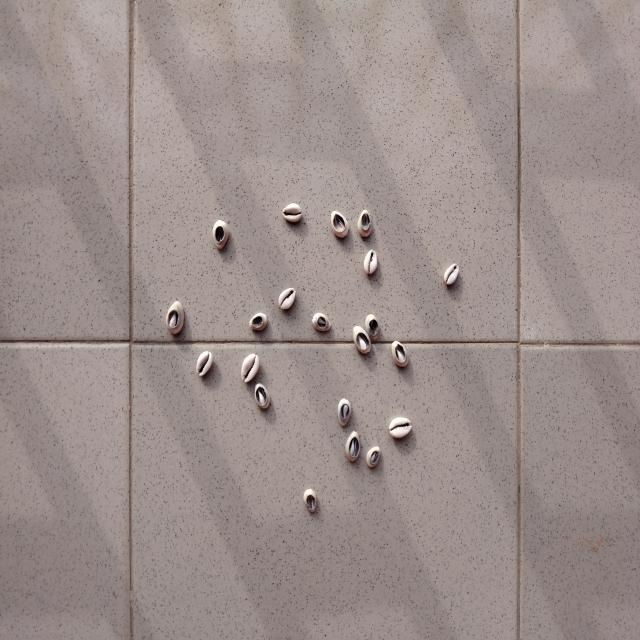facedown: (208, 213, 240, 260), (162, 296, 190, 339), (338, 426, 365, 467), (326, 206, 354, 245), (300, 483, 326, 524), (388, 336, 416, 373), (247, 306, 276, 339), (352, 324, 375, 361), (309, 308, 335, 340), (253, 383, 277, 417), (356, 206, 378, 243), (333, 391, 354, 427), (366, 314, 386, 346), (365, 444, 386, 473)
faceup: (386, 411, 419, 448), (359, 244, 386, 283), (195, 347, 220, 389), (442, 257, 468, 295), (238, 350, 263, 385), (270, 287, 302, 314), (278, 200, 307, 228)
